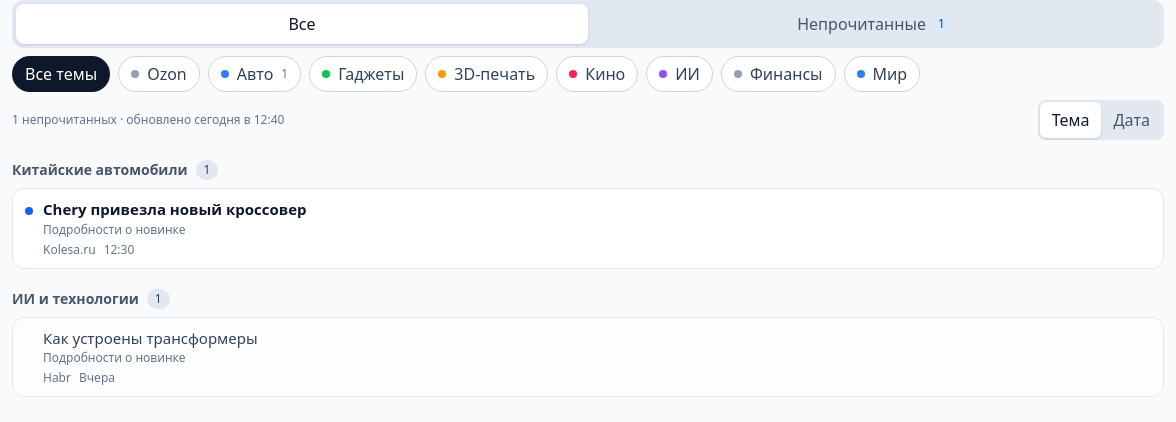
Test: экран «Новости» › переключает группировку на дату
Click the button "Дата" at (1132, 120), box [1101,102,1162,138]
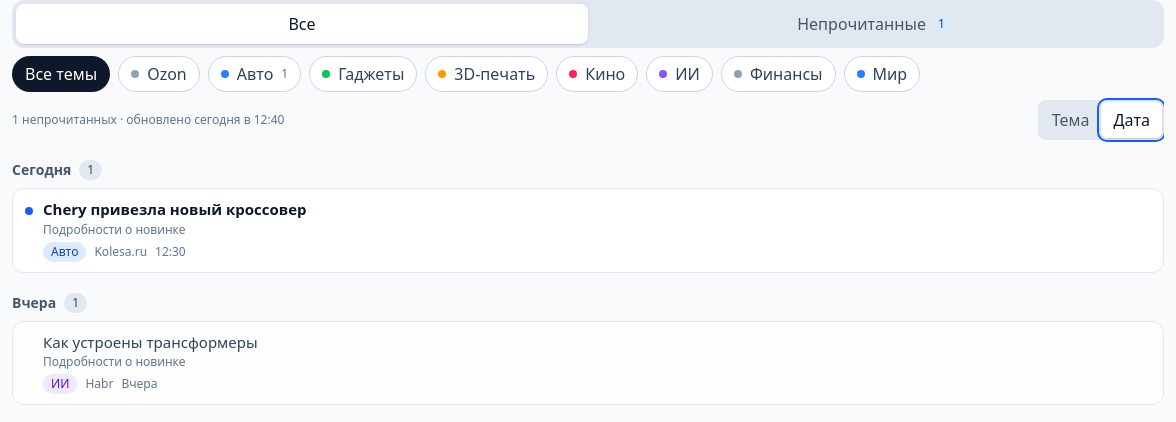
expect the heading "Сегодня 1" is shown: met, box [12,160,102,180]
expect the heading "Вчера 1" is shown: met, box [12,293,87,313]
